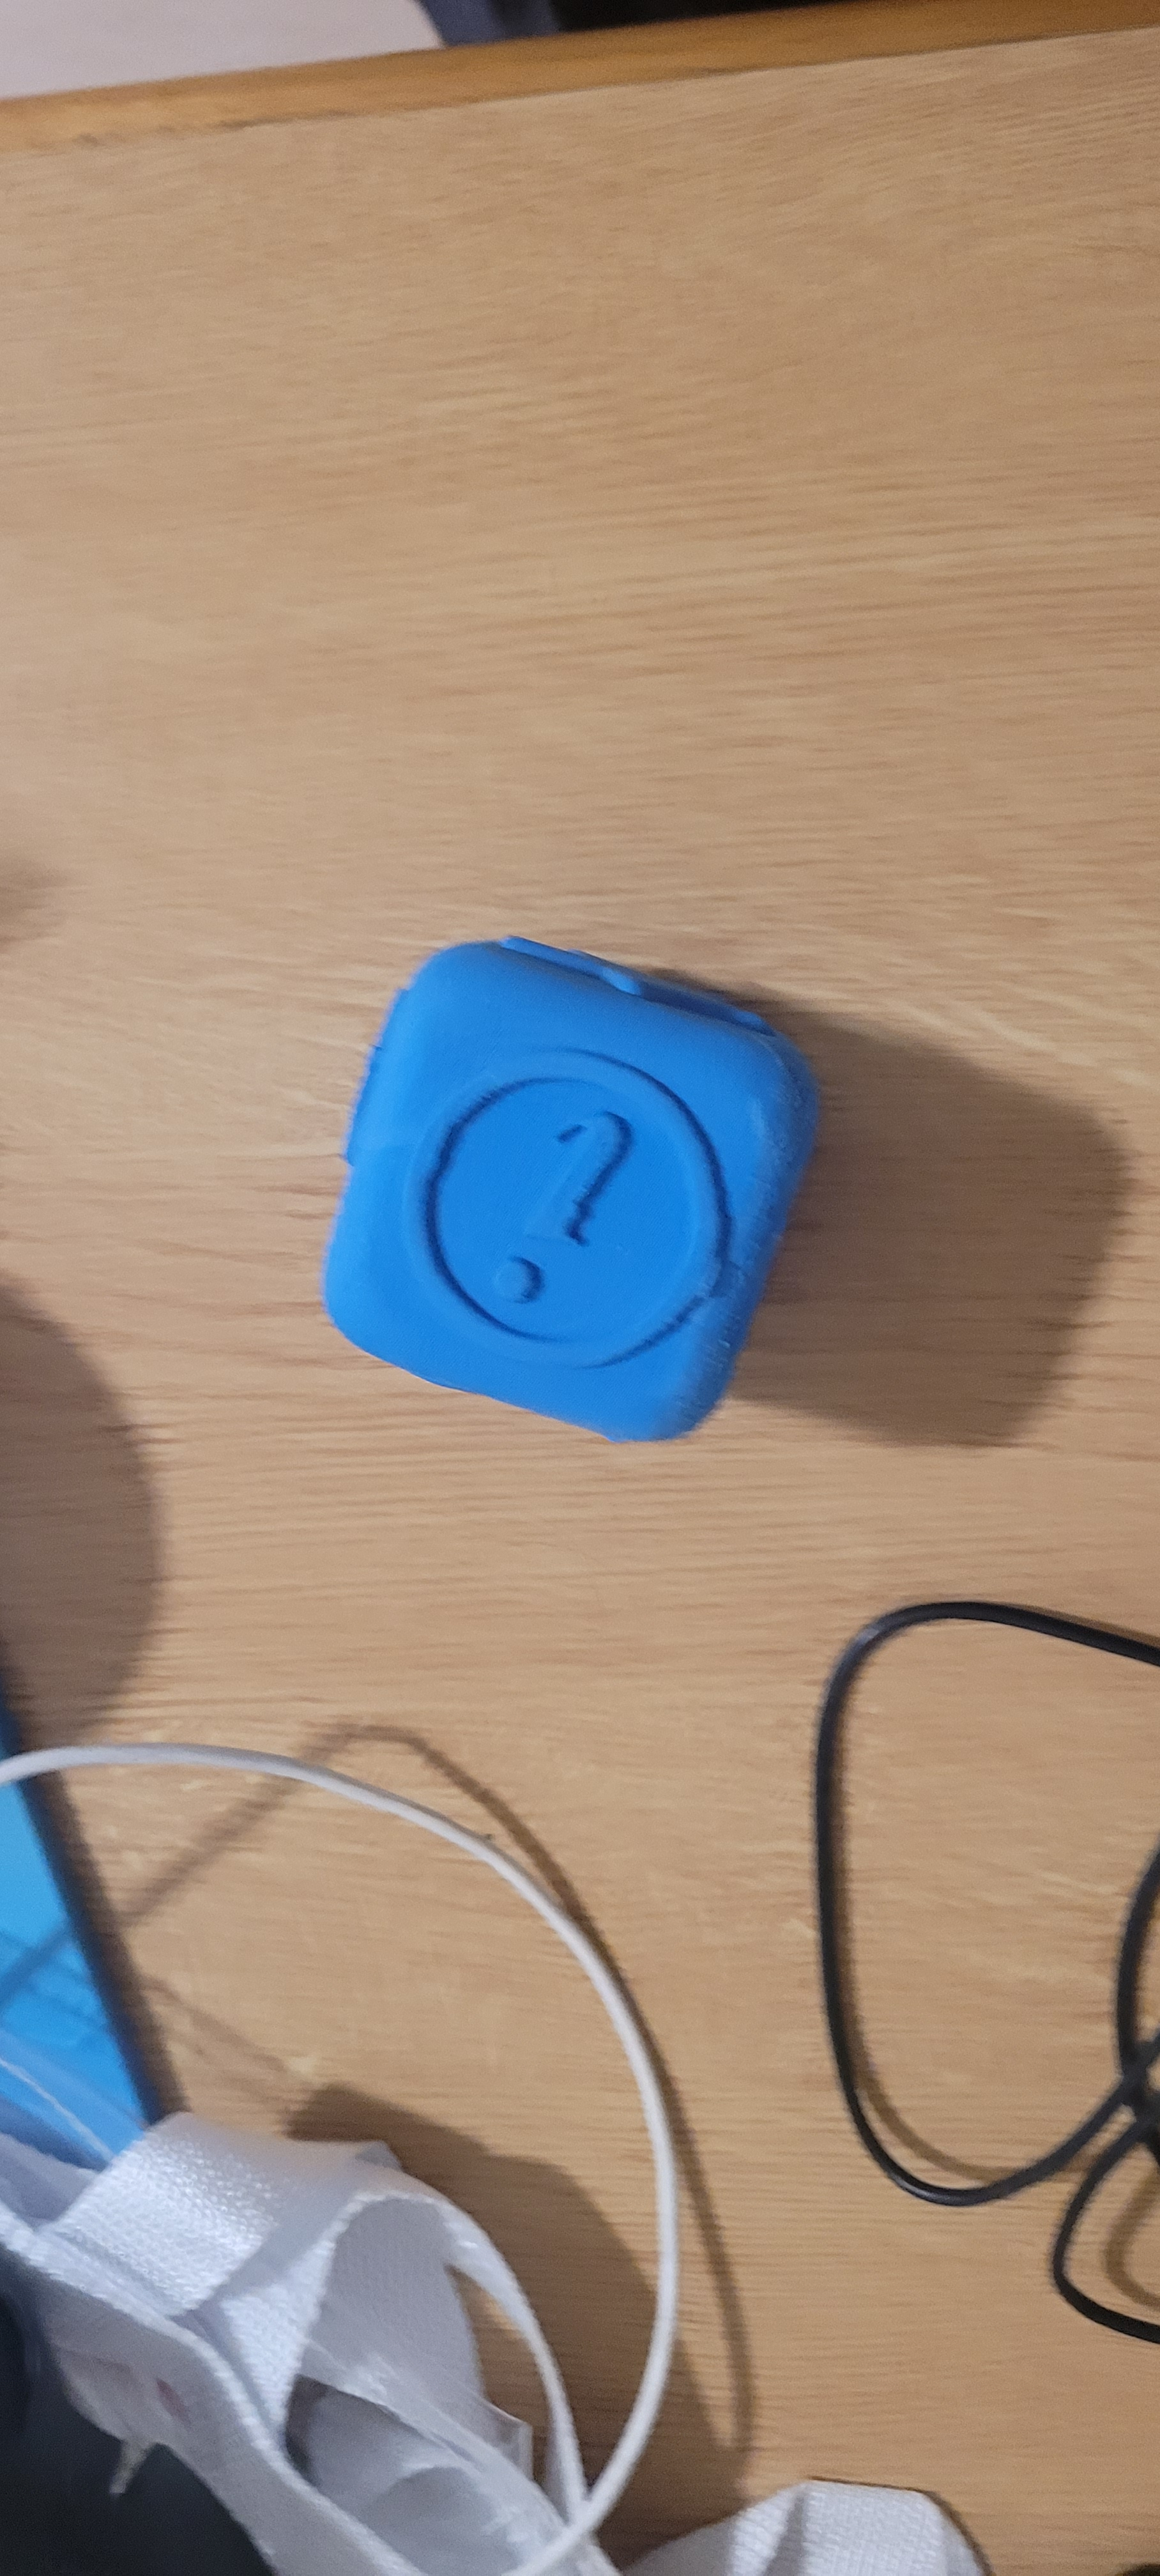Info: (411, 996, 741, 1380)
